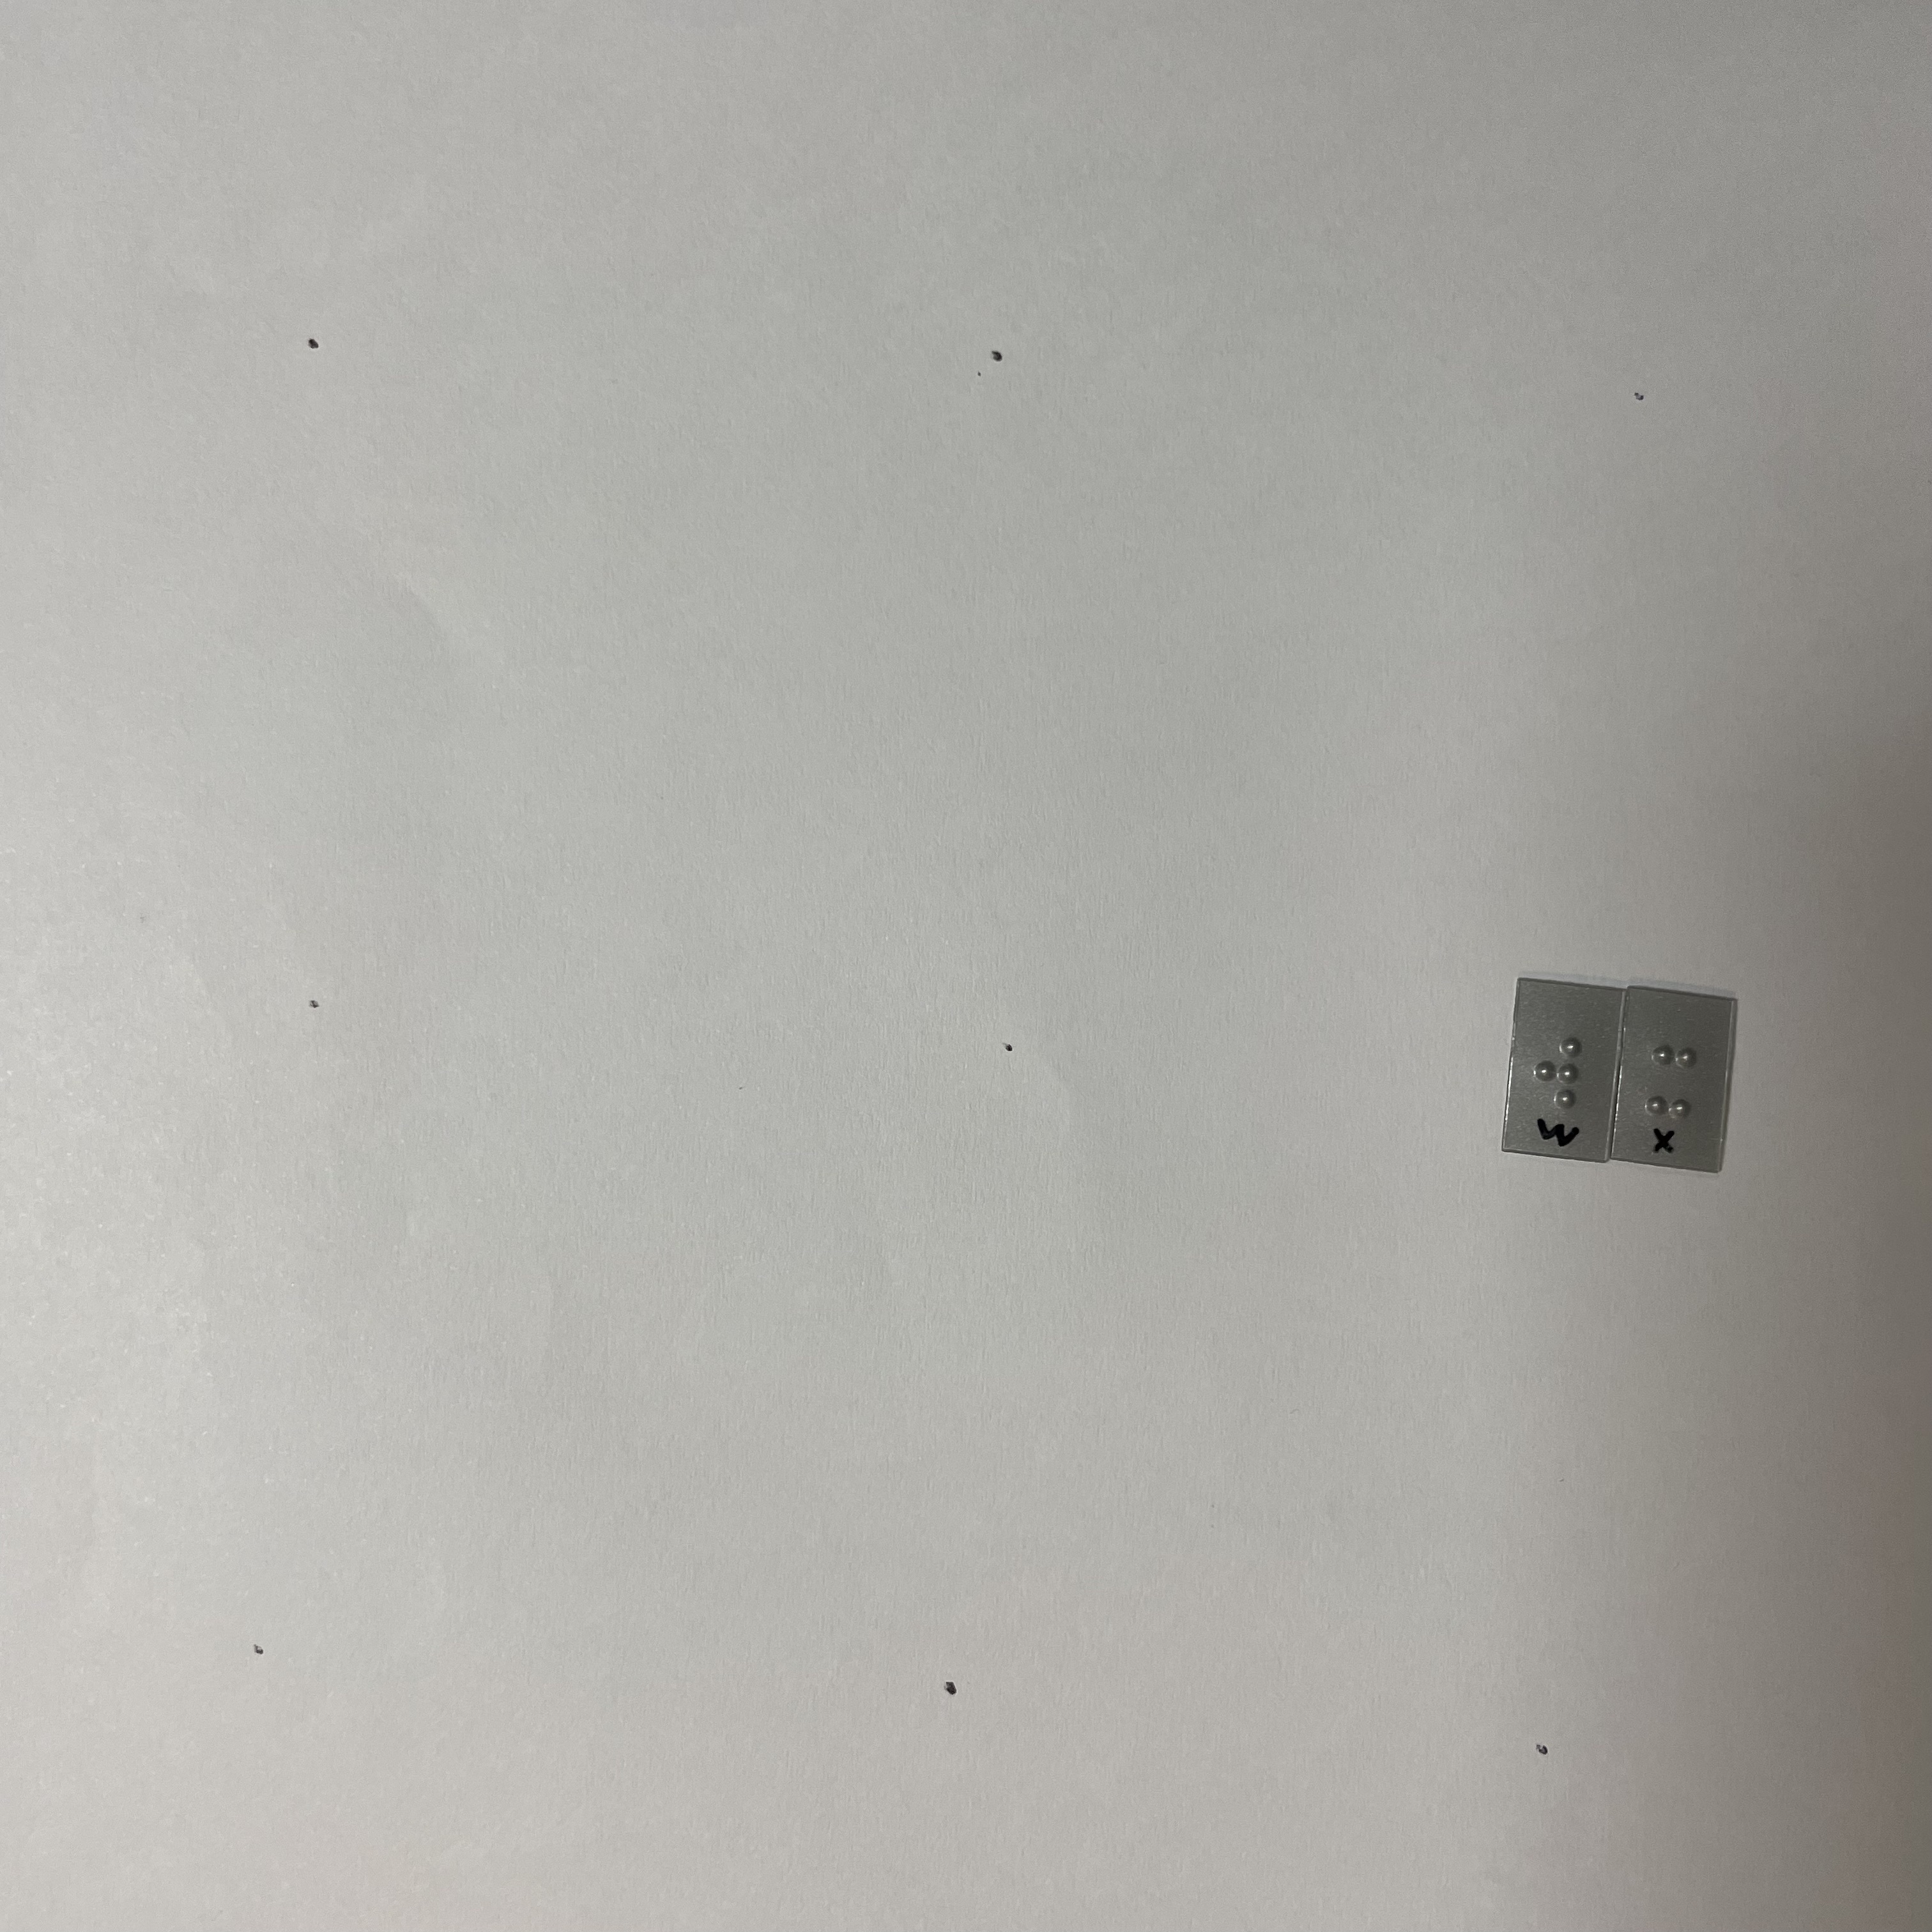w: (1529, 1025, 1593, 1126)
x: (1640, 1037, 1706, 1126)
